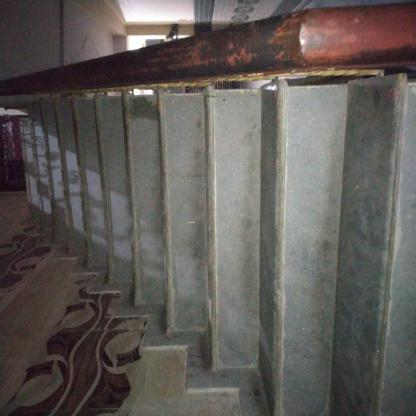stair: (6, 86, 416, 385)
